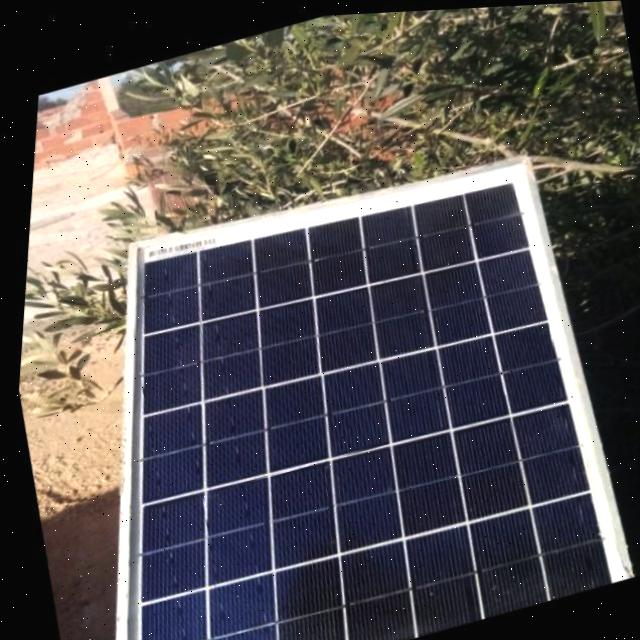Normal Solar Panel: (5, 123, 640, 640)
